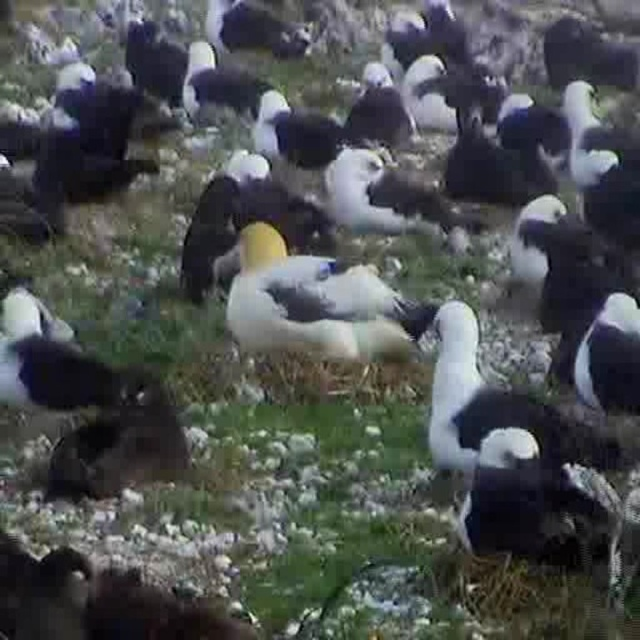Duck: (208, 221, 435, 400), (425, 300, 639, 468), (182, 147, 307, 289), (318, 141, 460, 241), (509, 189, 639, 283), (405, 52, 490, 144)
